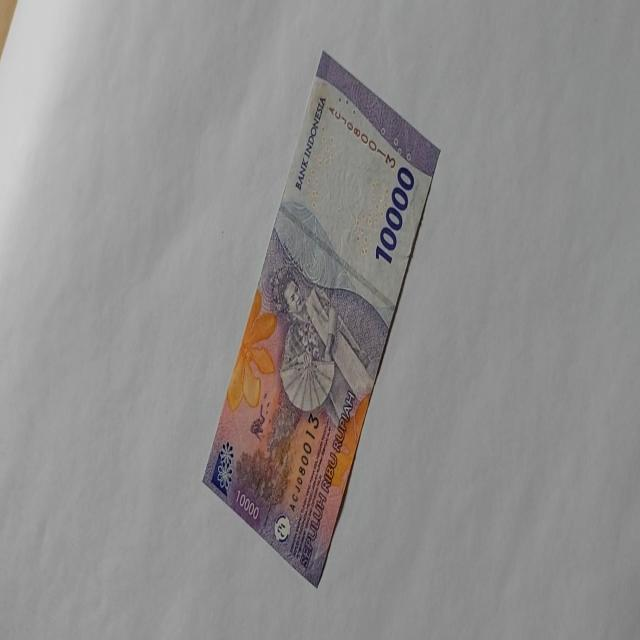sepuluh ribu rupiah: (201, 49, 441, 588)
